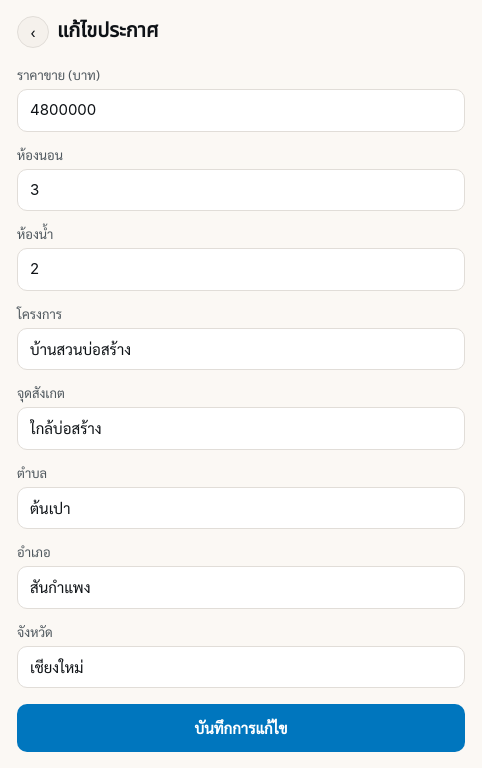
Scenario: Owner edit surface (/edit/{id}) › PATCHes only the CHANGED fields on submit, then shows the saved outcome
This screenshot has width=482, height=768.
Replace the text in the number field labelled "ห้องนอน" with "4". click: (241, 190)
box: [17,169,465,211]
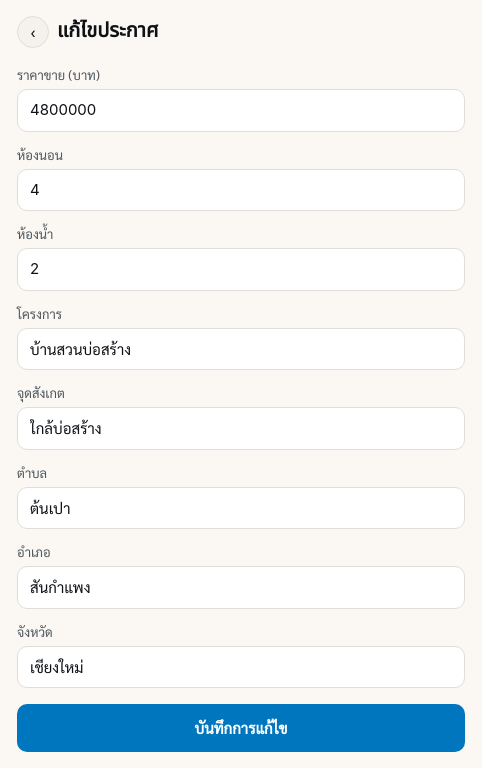
Click the button "บันทึกการแก้ไข". click: (241, 728)
box: [17,704,465,752]
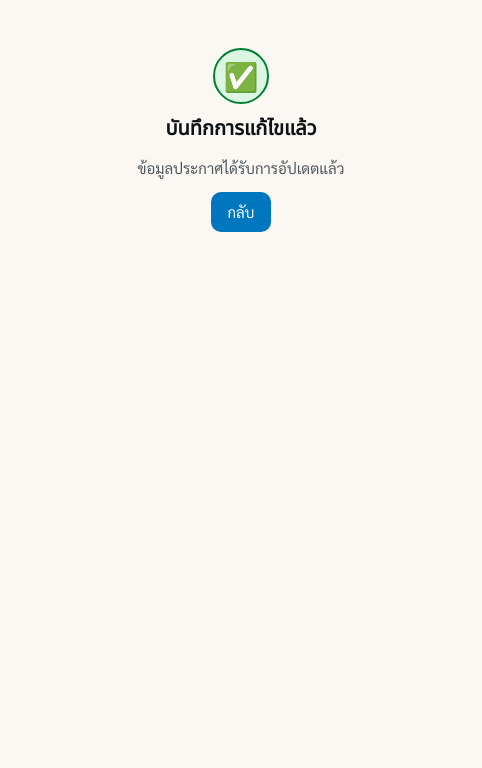
Result: the heading "บันทึกการแก้ไขแล้ว" is shown at [166,116,316,144]
